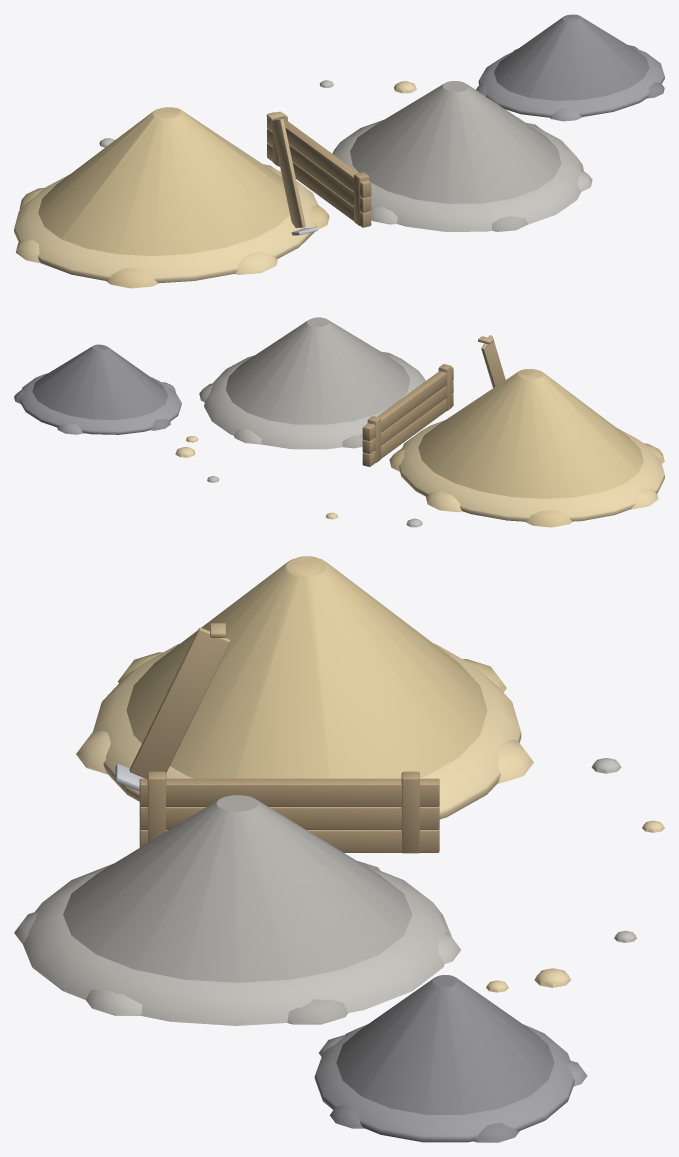
The model's file is th21_sandhaufen.glb.
3 renders of one model, top to bottom at view 1: azimuth 30°, elevation 25°; view 2: azimuth 150°, elevation 25°; view 3: azimuth 270°, elevation 25°, orthographic. The views are drawn at different scales.
Parts seen in each view (by area): view 1: Cone, Cone.001, Cone.002, Sphere, Sphere.008, Sphere.015, Cube.002, Cube.005, Cube.001, Cube, Sphere.005, Sphere.006 (+2 smaller); view 2: Cone, Cone.001, Sphere, Cone.002, Sphere.008, Sphere.015, Cube.002, Cube.001, Cube, Cube.005, Sphere.003, Sphere.002 (+2 smaller); view 3: Cone, Cone.001, Sphere.008, Cone.002, Sphere, Sphere.015, Cube.002, Cube.005, Cube.001, Cube, Cube.004, Cube.003 (+4 smaller).
Boxes of the visible parts, <box> form: Cone: <box>38,107,289,256</box>; Cone.001: <box>350,81,561,203</box>; Cone.002: <box>494,14,649,100</box>; Sphere: <box>14,166,317,282</box>; Sphere.008: <box>332,120,583,231</box>; Sphere.015: <box>478,47,664,117</box>; Cube.002: <box>267,112,371,198</box>; Cube.005: <box>270,118,305,228</box>; Cube.001: <box>267,129,371,212</box>; Cube: <box>267,143,371,227</box>; Sphere.005: <box>106,268,159,288</box>; Sphere.006: <box>235,251,277,274</box>; Cone: <box>418,369,643,498</box>; Cone.001: <box>226,317,410,424</box>; Sphere: <box>399,420,664,521</box>; Cone.002: <box>32,344,167,419</box>; Sphere.008: <box>204,351,425,449</box>; Sphere.015: <box>19,373,181,434</box>; Cube.002: <box>362,367,453,441</box>; Cube.001: <box>362,380,453,453</box>; Cube: <box>362,393,453,466</box>; Cube.005: <box>481,335,505,387</box>; Sphere.003: <box>525,510,572,527</box>; Sphere.002: <box>426,491,462,512</box>; Cone: <box>126,556,487,778</box>; Cone.001: <box>63,795,412,982</box>; Sphere.008: <box>23,863,451,1025</box>; Cone.002: <box>336,975,554,1114</box>; Sphere: <box>93,643,521,819</box>; Sphere.015: <box>314,1024,574,1142</box>; Cube.002: <box>139,778,439,806</box>; Cube.005: <box>129,627,230,778</box>; Cube.001: <box>139,806,439,829</box>; Cube: <box>139,829,439,852</box>; Cube.004: <box>401,771,419,853</box>; Cube.003: <box>147,771,166,842</box>.
Bounding box in the file's own units: 10.52 × 1.65 × 5.64.
